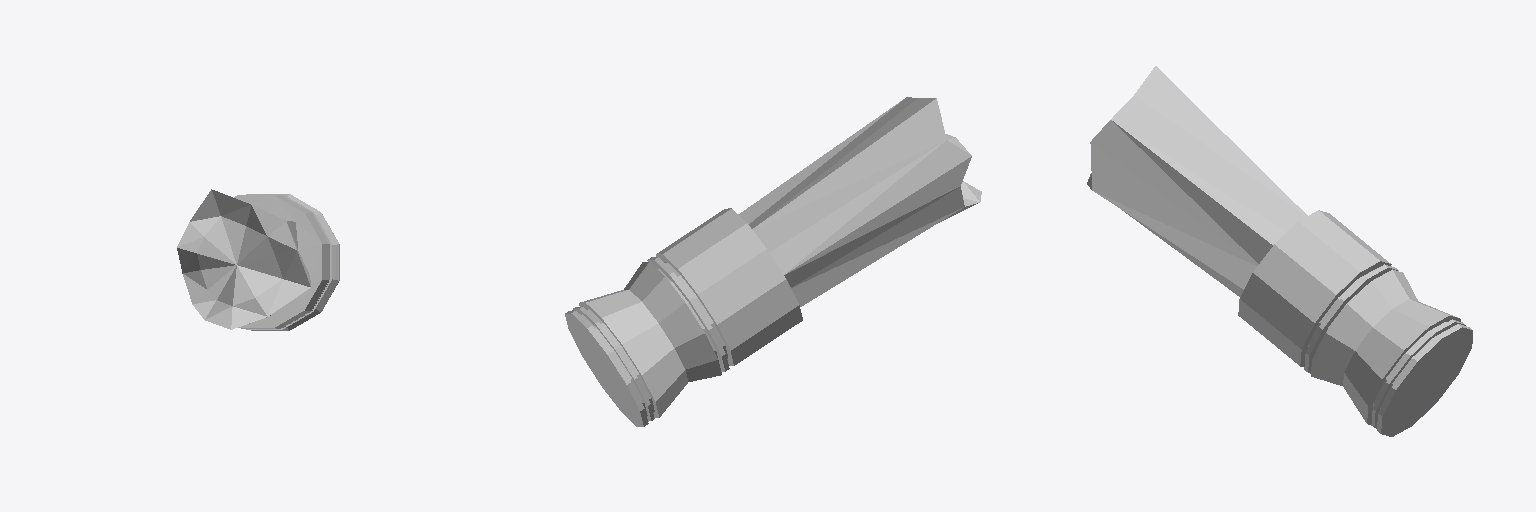
Rendered from piliersol1.obj.
3 views of the same model, side by side, from view 1: azimuth 30°, elevation 25°; view 2: azimuth 150°, elevation 25°; view 3: azimuth 270°, elevation 25° (orthographic).
Size of the model in its own units: 0.6781 by 0.6329 by 0.8022.